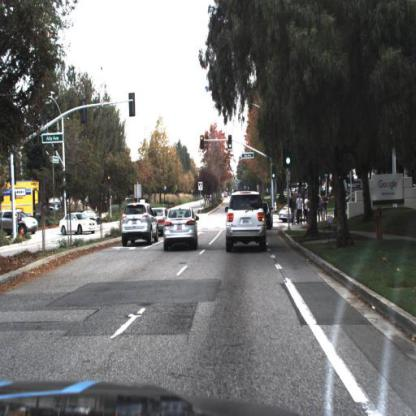car: (225, 189, 268, 256), (120, 201, 161, 249), (163, 206, 201, 257), (1, 209, 41, 240), (58, 210, 99, 237), (1, 208, 39, 237), (279, 200, 307, 222), (151, 206, 170, 233), (239, 200, 259, 221), (262, 202, 276, 228), (80, 208, 102, 222)
pedestrian: (297, 194, 305, 226)
trafficLight-Green: (227, 134, 233, 151), (272, 164, 277, 179)
trafficLight-Red: (284, 137, 294, 170)
trafficLight-RedLeft: (106, 172, 114, 191), (199, 135, 207, 153), (200, 135, 206, 152)
truck: (1, 178, 42, 222)
